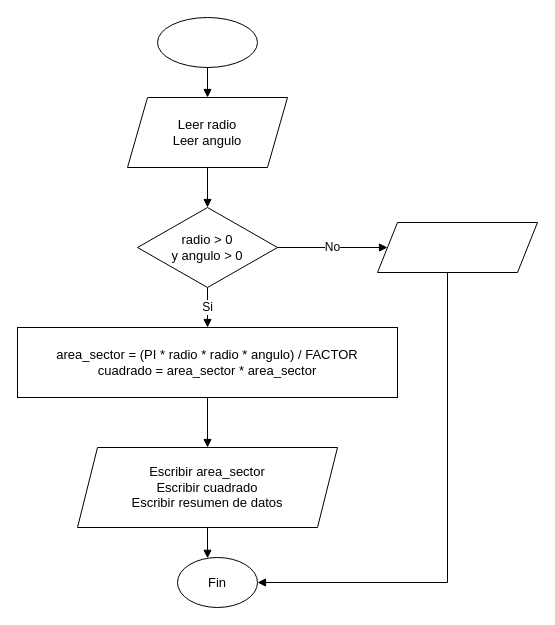
This 555x625 diagram has some shape labels left out. Each missing label, with the centre of its shape:
Escribir "Datos invalidos": (x=457, y=247)
Inicio: (x=207, y=42)
